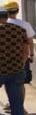boots: (0, 1, 1, 1)
hard-hat: (2, 0, 18, 12)
